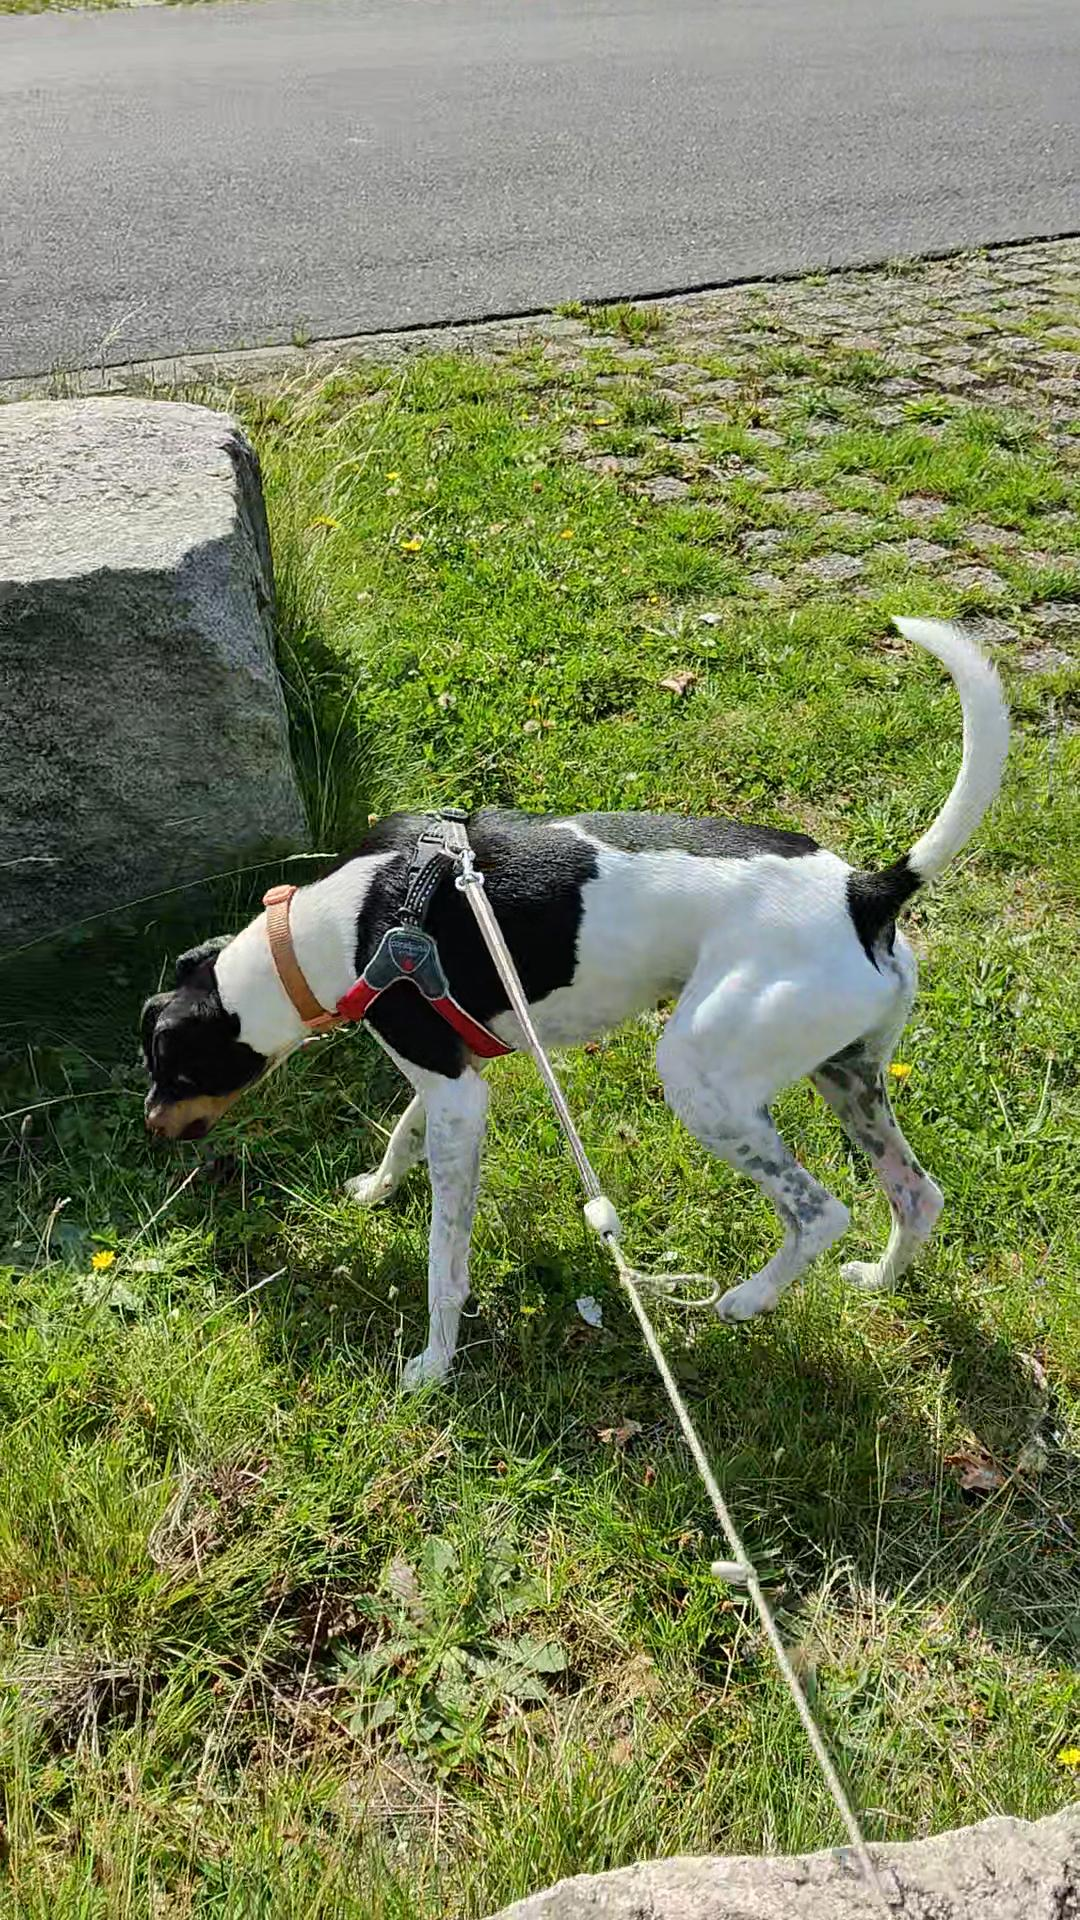Dog: (121, 589, 1021, 1400)
